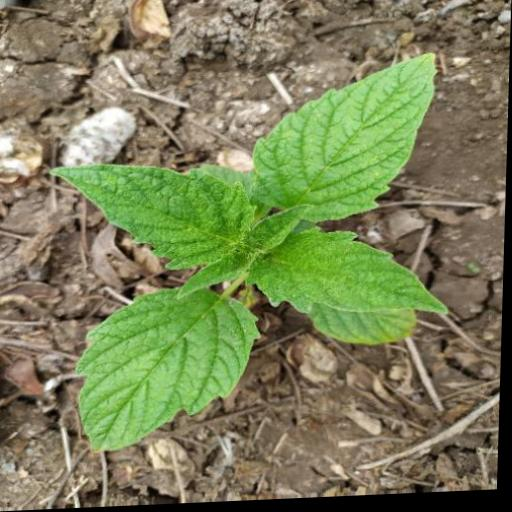crop: (37, 53, 475, 471)
